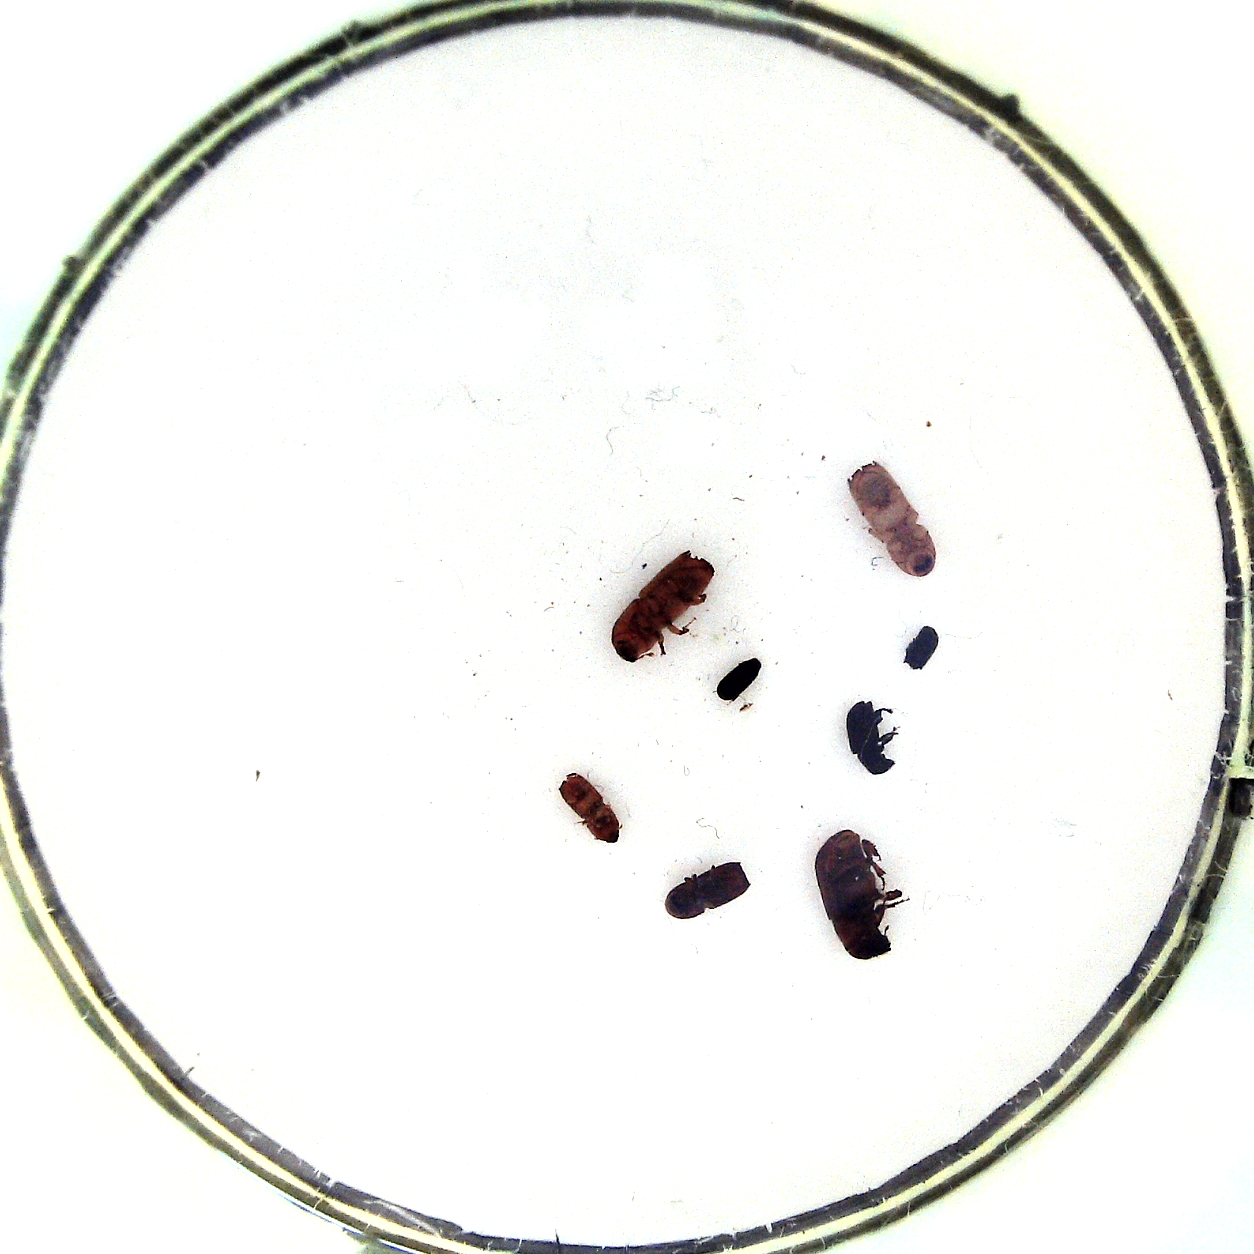Boerner: (606, 548, 720, 663), (843, 455, 942, 578)
Leconte: (811, 825, 907, 962)
Linnaeus: (661, 857, 754, 922)
acuminatus: (560, 768, 625, 849)
armandi: (845, 695, 904, 777)
coleoptera: (712, 657, 771, 703), (901, 622, 942, 673)
